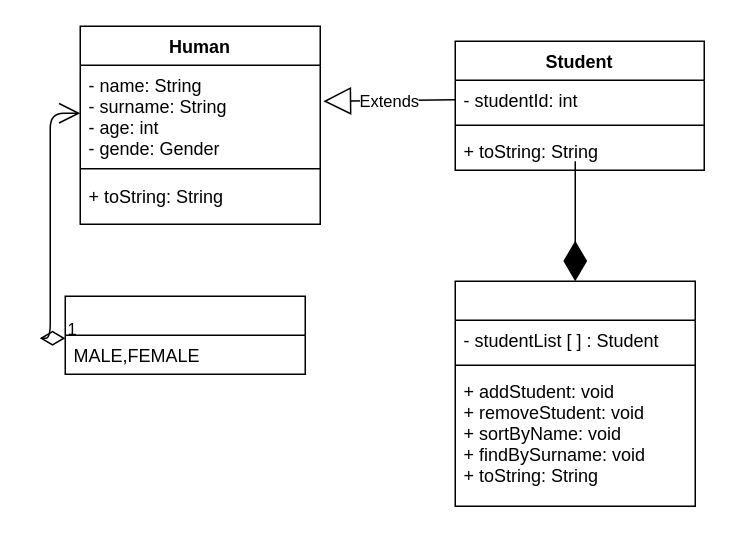
This 731x537 diagram has some shape labels left out. Each missing label, with the box of its shape:
Gender: (64, 295, 305, 374)
Groupe: (454, 280, 695, 506)
